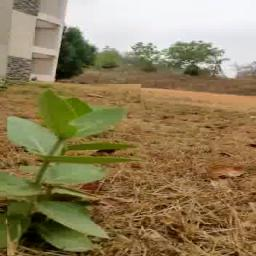CALOTROPIS: (7, 84, 143, 256)
